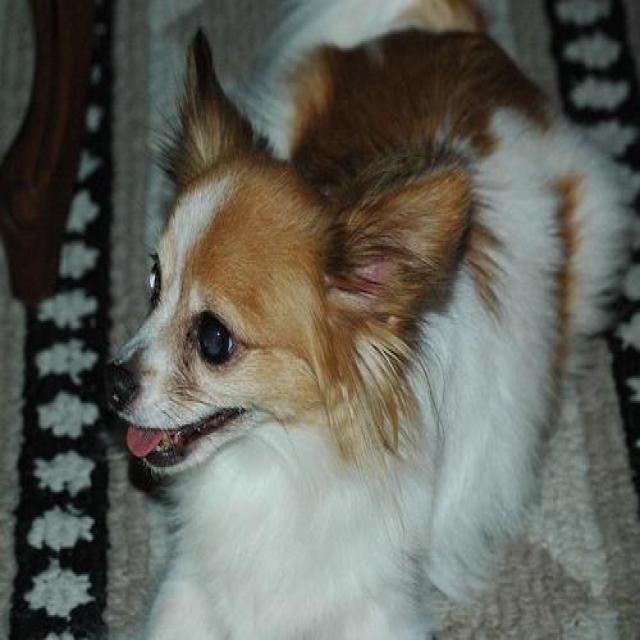papillon: (97, 2, 626, 636)
